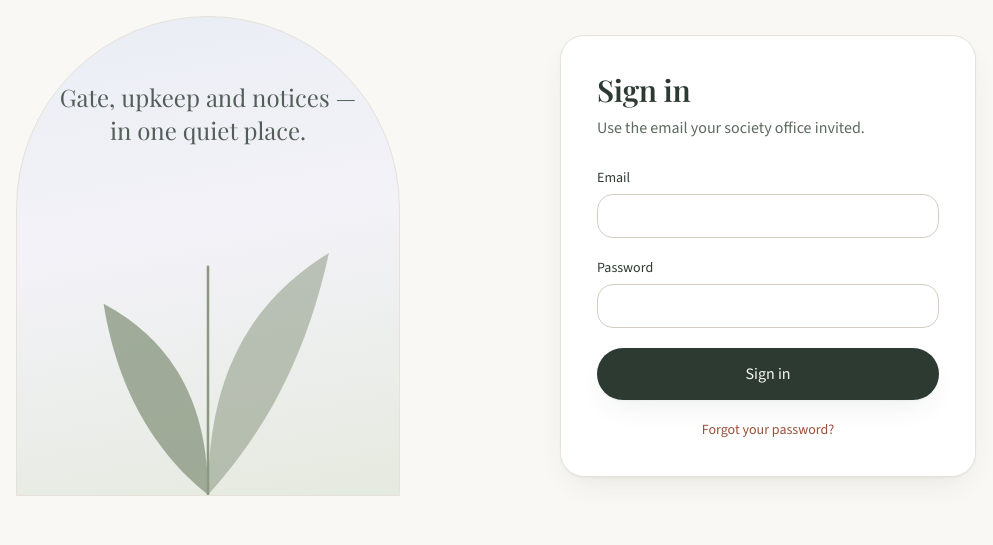
Test: LoginPage › shows the server’s message for wrong credentials
Type "a@b.in" into the field labelled "Email" at (768, 216), box [597,194,939,238]
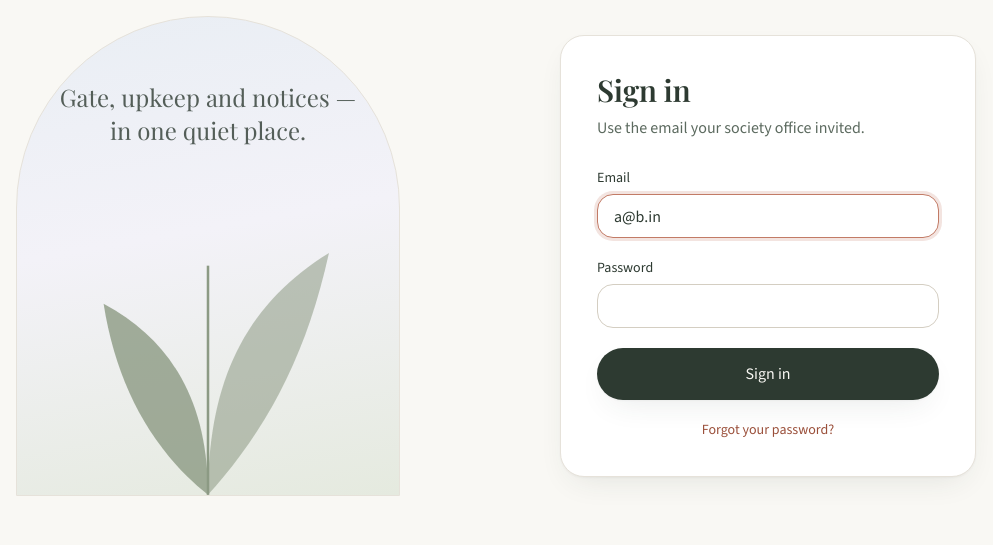
Type "wrong-pass-1" into the password field labelled "Password" at (768, 306), box [597,284,939,328]
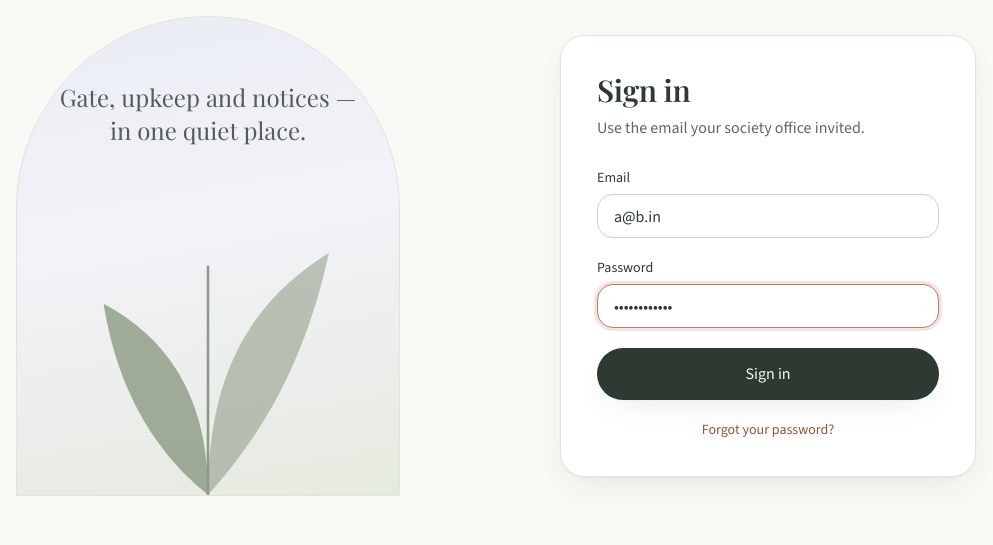
Click the button "Sign in" at (768, 374), box [597,348,939,400]
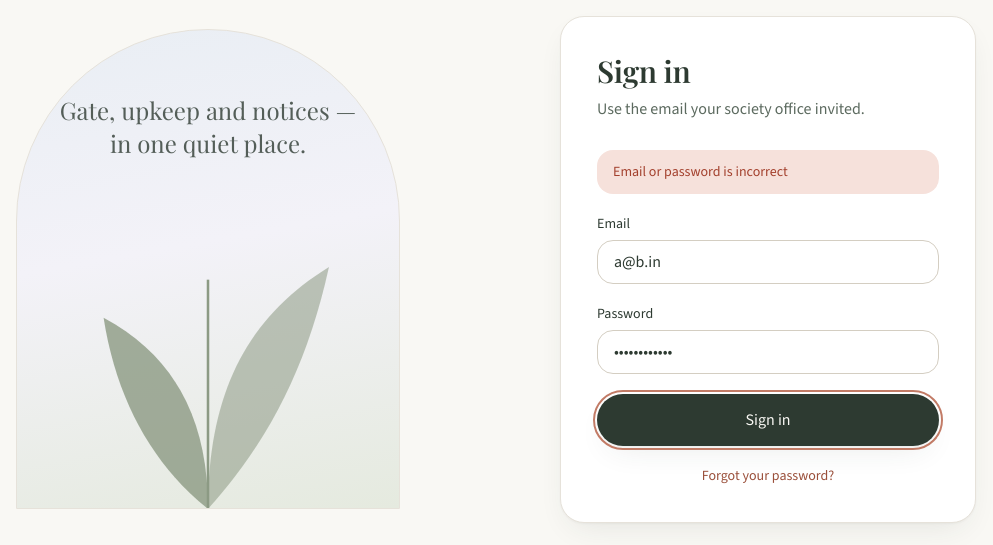
Result: the text "Email or password is incorrect" is shown at [597,150,939,194]
